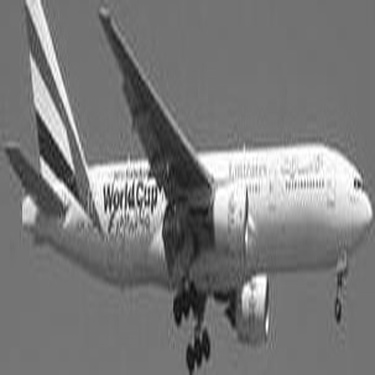airplane: (5, 7, 369, 371)
